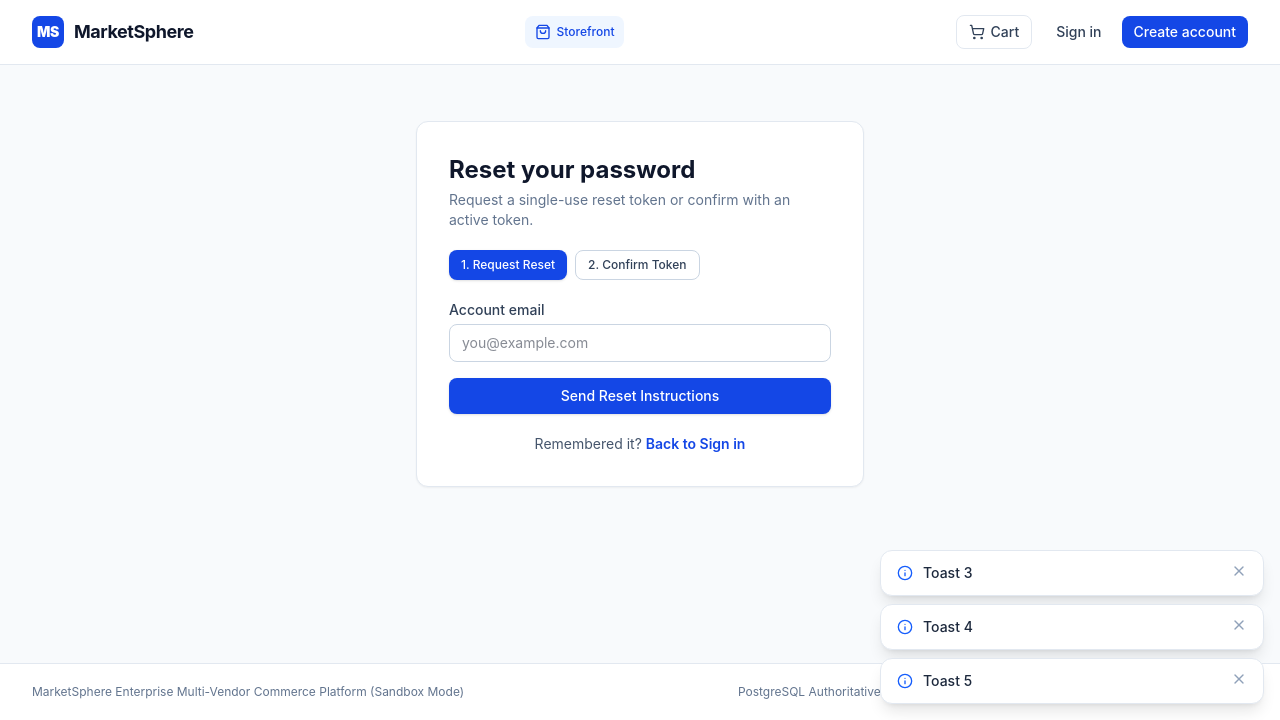
Test case: MarketSphere Frontend Components & Auth Validation › renders forgot-password flow switching between request and token confirmation steps
Check: the heading "Reset your password" is shown, box [449, 155, 695, 184]
Check: the field labelled "Account email" is shown, box [449, 324, 831, 362]
Click the button "2. Confirm Token".
click(637, 265)  # box [575, 250, 700, 280]
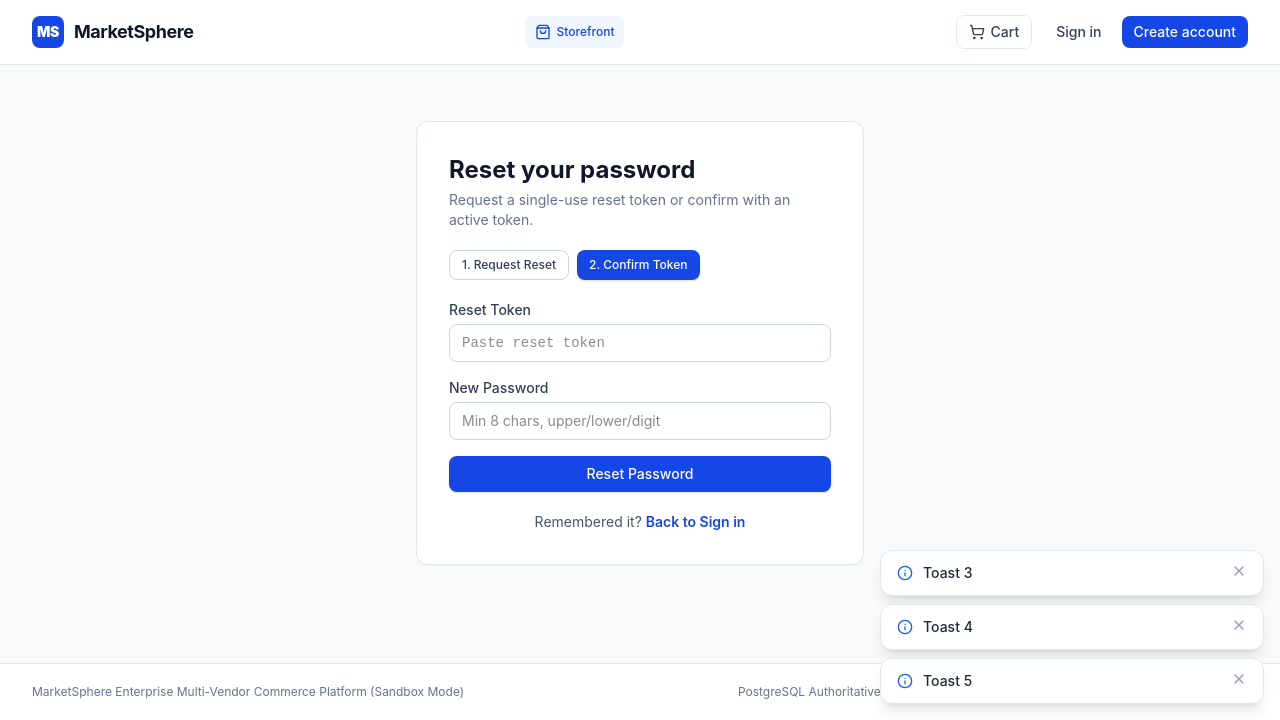
Check: the field labelled "Reset Token" is shown, box [449, 324, 831, 362]
Check: the password field labelled "New Password" is shown, box [449, 402, 831, 440]
